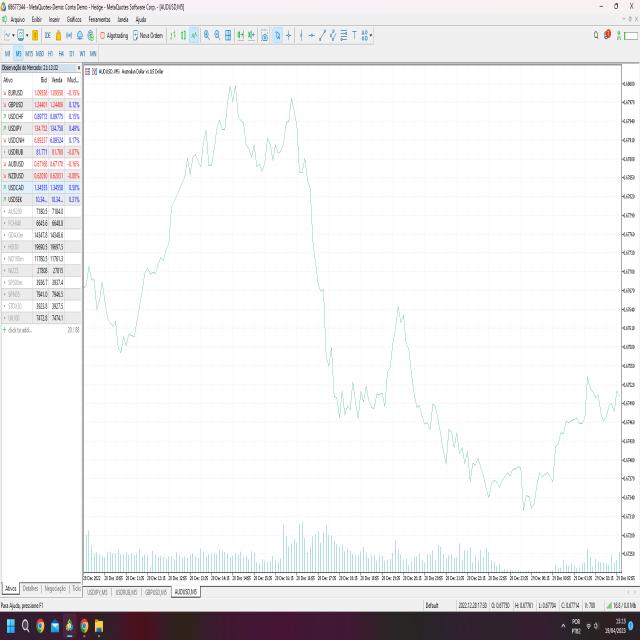topo_duplo: (174, 64, 336, 376)
